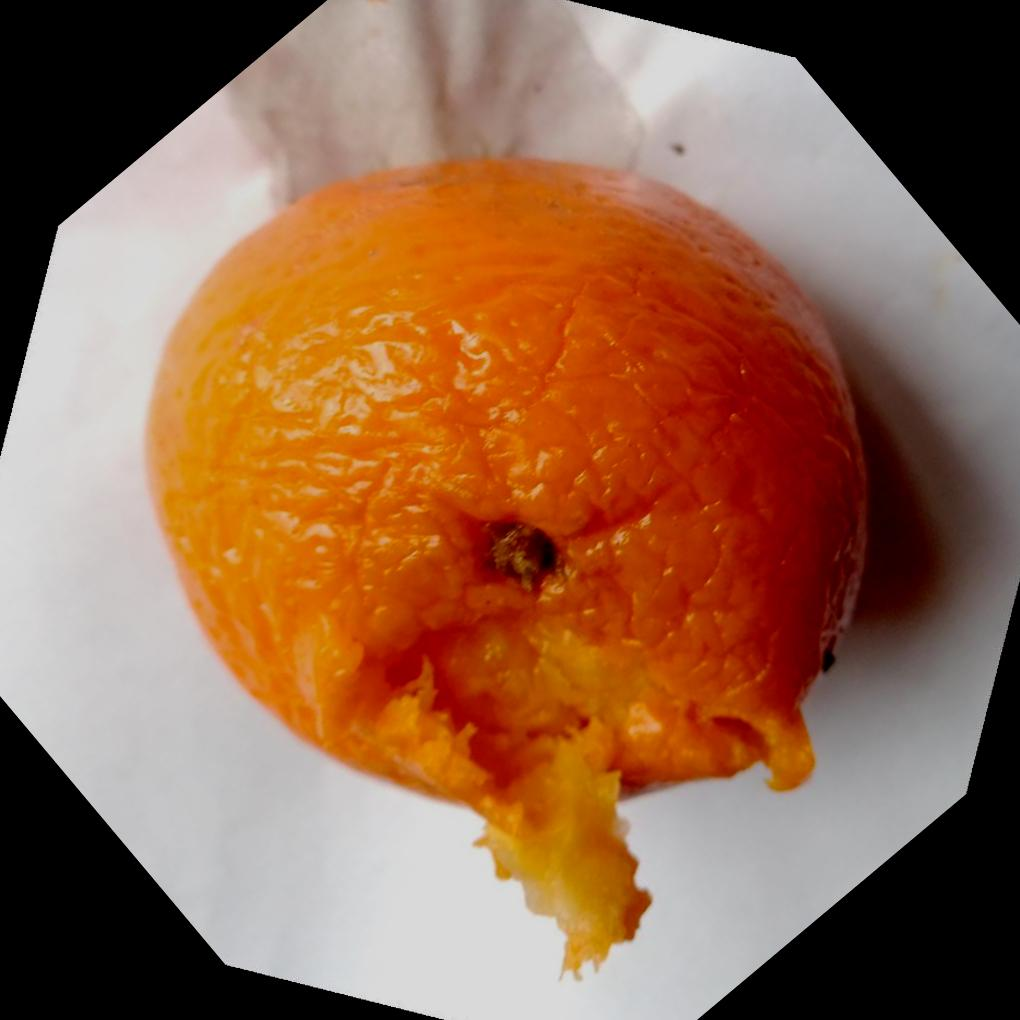FreshOrange: (142, 150, 875, 981)
